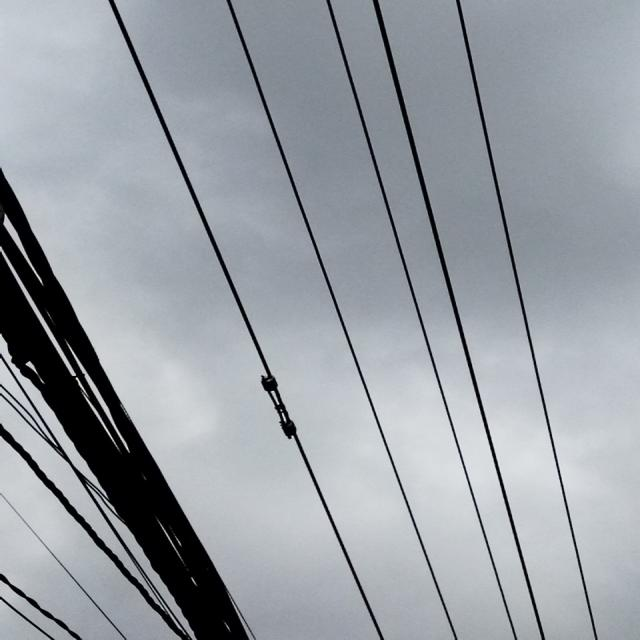wire: (105, 0, 392, 640), (224, 1, 463, 640), (321, 0, 524, 640), (368, 0, 551, 640), (452, 0, 600, 640), (0, 421, 195, 640), (1, 572, 85, 640)
